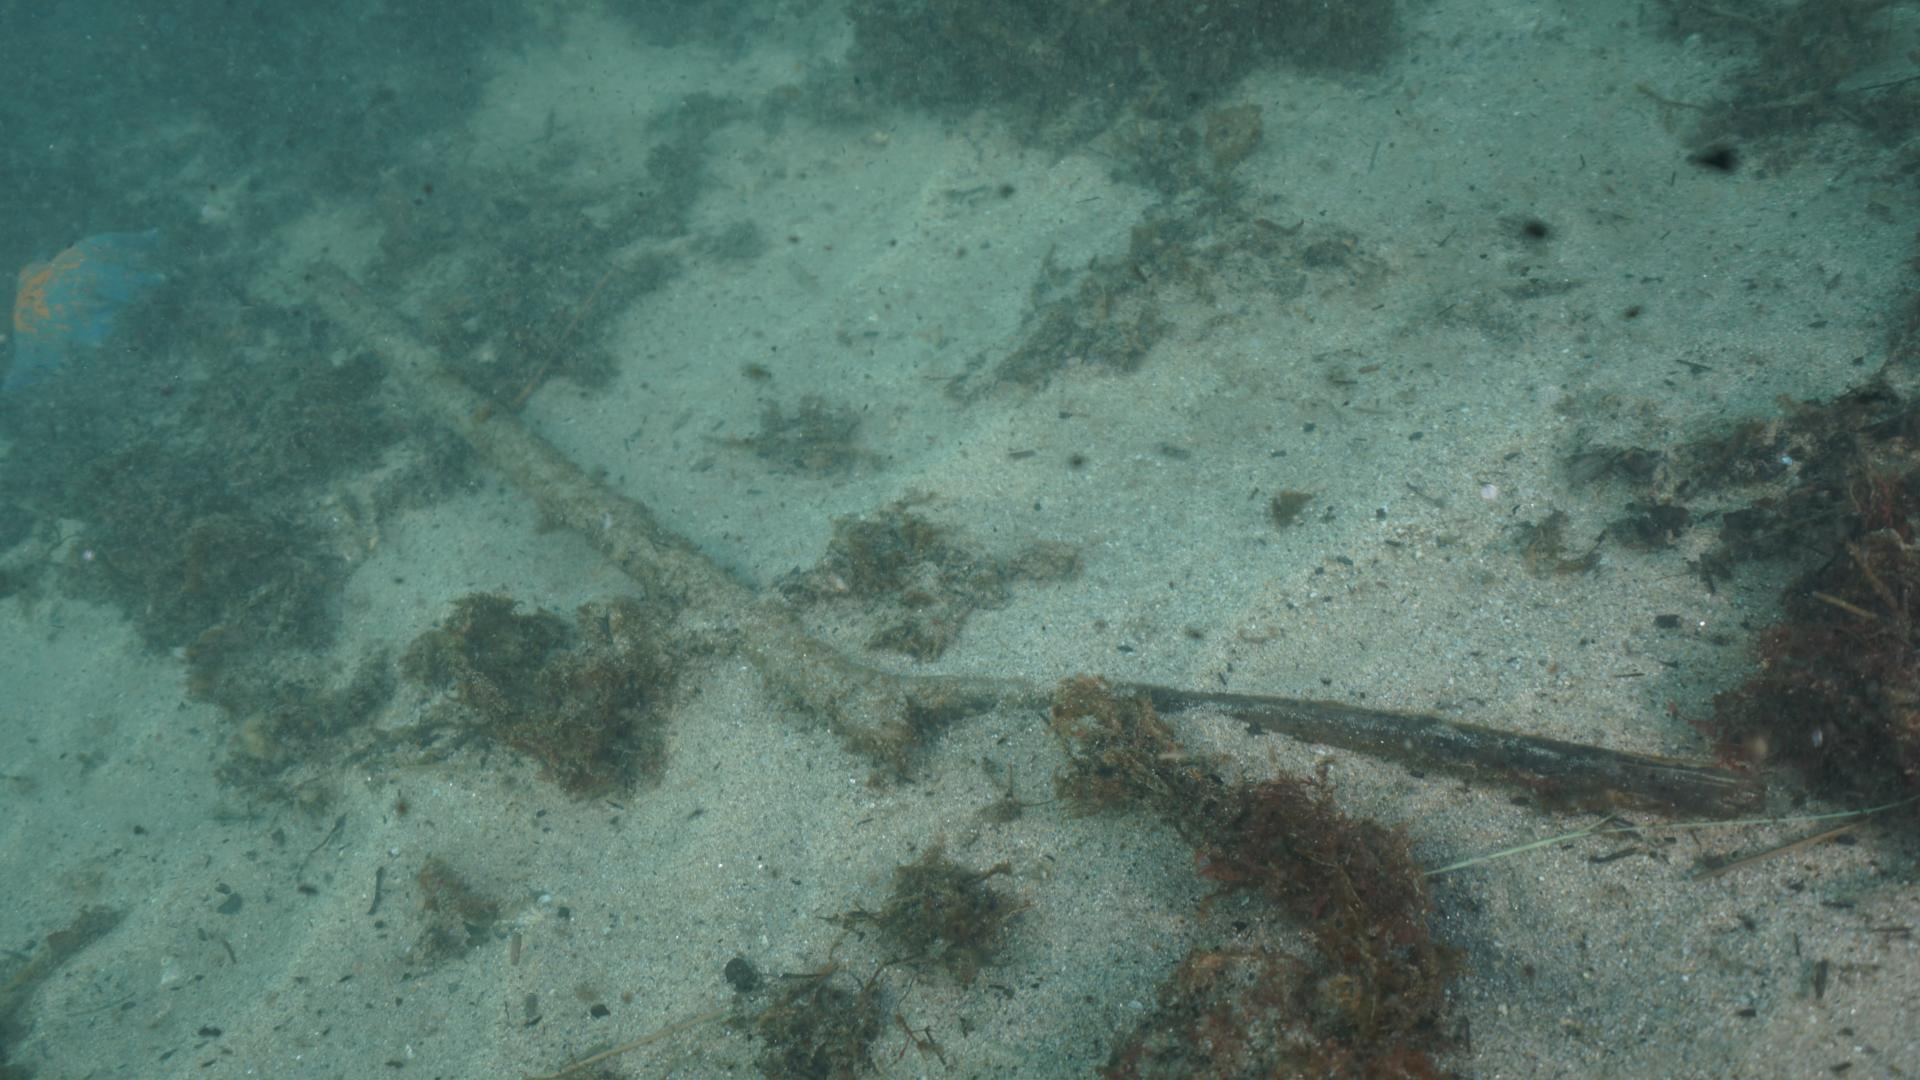wood: (295, 269, 1758, 818)
